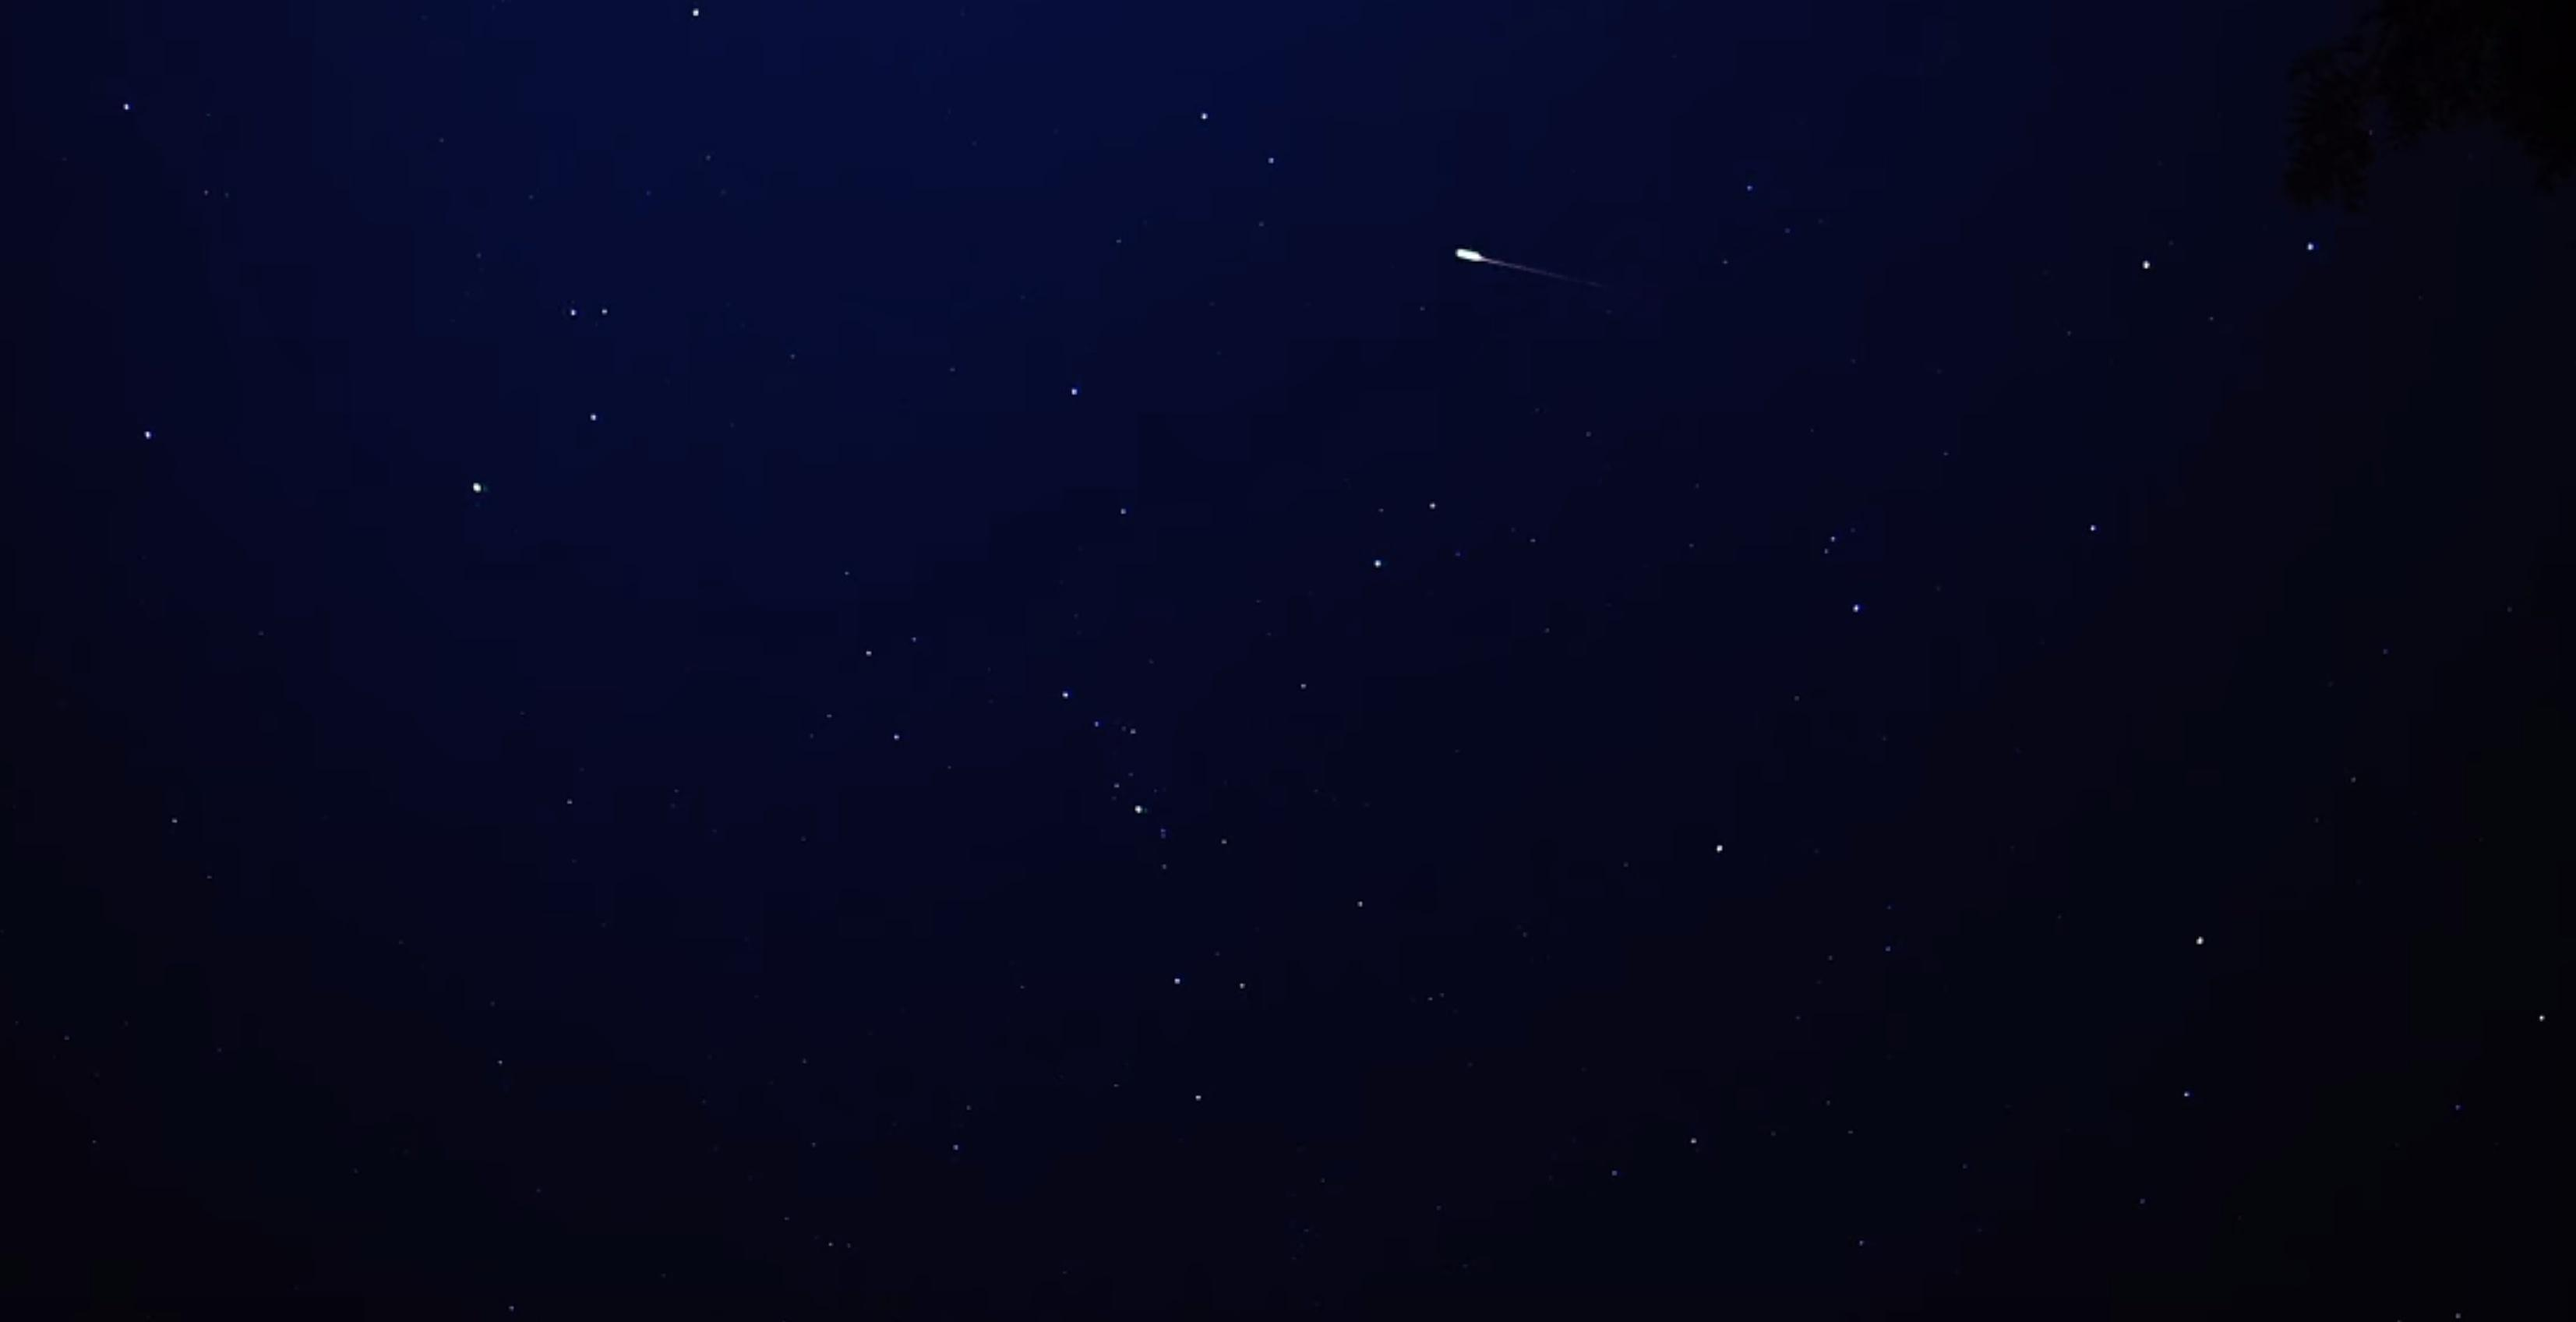meteorite: (1385, 236, 1678, 300)
